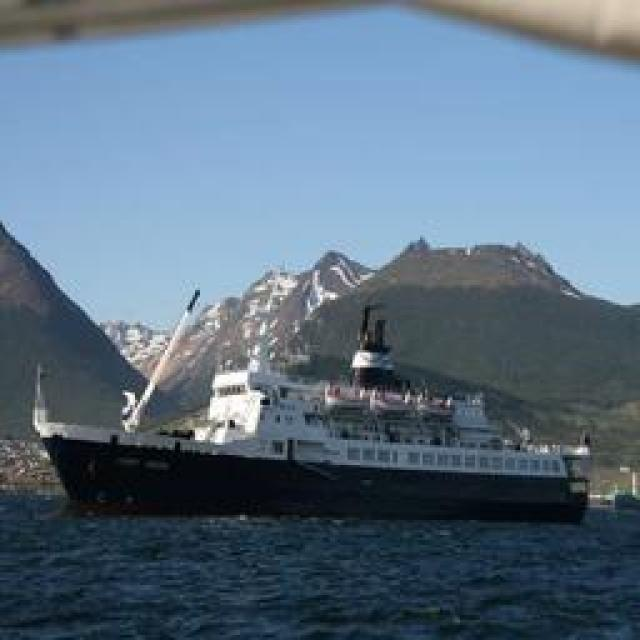CIV_Ship: (59, 286, 602, 522)
